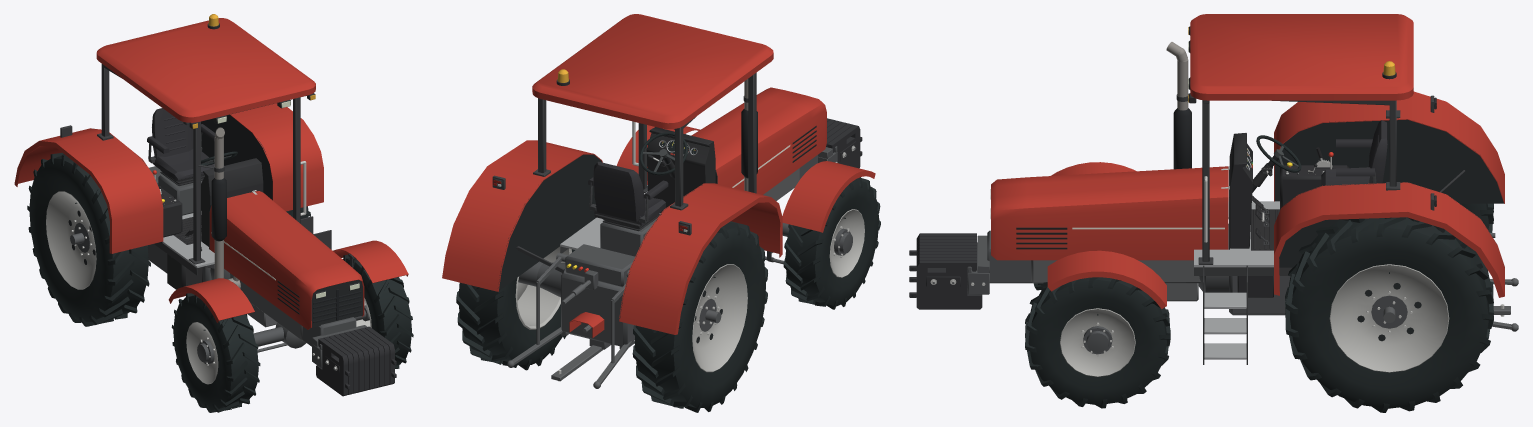
The model's file is Row_Crop_Tractor.fbx.
The picture shows the model from 3 angles, left to right: view 1: azimuth 30°, elevation 25°; view 2: azimuth 150°, elevation 25°; view 3: azimuth 270°, elevation 25°; orthographic projection. The views are drawn at different scales.
Visible parts, largest first — view 1: Body__body_paint, Hinge_Hood__body_paint, Wheel_RR__tire_rubber, Wheel_FR__tire_rubber, Body__ballast_iron, Body__frame_paint, Body__wheel_well, Body__black_plastic, Wheel_RR__wheel_paint, Body__casting, Wheel_FL__tire_rubber, Body__seat_vinyl (+8 smaller); view 2: Body__body_paint, Wheel_RR__tire_rubber, Hinge_Hood__body_paint, Body__casting, Wheel_FR__tire_rubber, Body__wheel_well, Wheel_RL__tire_rubber, Wheel_RR__wheel_paint, Body__frame_paint, Body__black_plastic, Steer_FR__body_paint, Body__seat_vinyl (+10 smaller); view 3: Body__body_paint, Wheel_RL__tire_rubber, Hinge_Hood__body_paint, Wheel_FL__tire_rubber, Body__wheel_well, Wheel_RL__wheel_paint, Body__black_plastic, Body__ballast_iron, Body__frame_paint, Body__tread_plate, Body__casting, Wheel_FL__wheel_paint (+10 smaller).
Boxes of the visible parts, bbox=[...] form: Body__body_paint: bbox=[14, 18, 323, 253]; Hinge_Hood__body_paint: bbox=[209, 191, 364, 329]; Wheel_RR__tire_rubber: bbox=[27, 152, 150, 326]; Wheel_FR__tire_rubber: bbox=[171, 293, 260, 412]; Body__ballast_iron: bbox=[316, 326, 396, 396]; Body__frame_paint: bbox=[60, 64, 331, 275]; Body__wheel_well: bbox=[92, 114, 393, 387]; Body__black_plastic: bbox=[158, 23, 360, 299]; Wheel_RR__wheel_paint: bbox=[46, 191, 96, 289]; Body__casting: bbox=[147, 166, 367, 368]; Wheel_FL__tire_rubber: bbox=[343, 254, 413, 368]; Body__seat_vinyl: bbox=[147, 108, 215, 180]; Body__body_paint: bbox=[442, 14, 782, 337]; Wheel_RR__tire_rubber: bbox=[632, 221, 767, 412]; Hinge_Hood__body_paint: bbox=[691, 87, 826, 194]; Body__casting: bbox=[536, 146, 837, 349]; Wheel_FR__tire_rubber: bbox=[783, 177, 880, 309]; Body__wheel_well: bbox=[498, 139, 861, 320]; Wheel_RL__tire_rubber: bbox=[456, 249, 574, 370]; Wheel_RR__wheel_paint: bbox=[692, 264, 747, 372]; Body__frame_paint: bbox=[492, 72, 756, 272]; Body__black_plastic: bbox=[493, 79, 715, 232]; Steer_FR__body_paint: bbox=[782, 161, 875, 232]; Body__seat_vinyl: bbox=[588, 161, 668, 225]; Body__body_paint: bbox=[1190, 14, 1504, 297]; Wheel_RL__tire_rubber: bbox=[1285, 217, 1493, 412]; Hinge_Hood__body_paint: bbox=[991, 166, 1228, 260]; Wheel_FL__tire_rubber: bbox=[1025, 277, 1170, 408]; Body__wheel_well: bbox=[911, 119, 1503, 296]; Wheel_RL__wheel_paint: bbox=[1329, 264, 1449, 372]; Body__black_plastic: bbox=[1189, 26, 1436, 297]; Body__ballast_iron: bbox=[909, 233, 982, 309]; Body__frame_paint: bbox=[1176, 93, 1464, 364]; Body__tread_plate: bbox=[1194, 201, 1279, 359]; Body__casting: bbox=[967, 223, 1290, 315]; Wheel_FL__wheel_paint: bbox=[1060, 308, 1135, 376].
Bounding box in the file's own units: 2.38 × 2.91 × 5.01.
